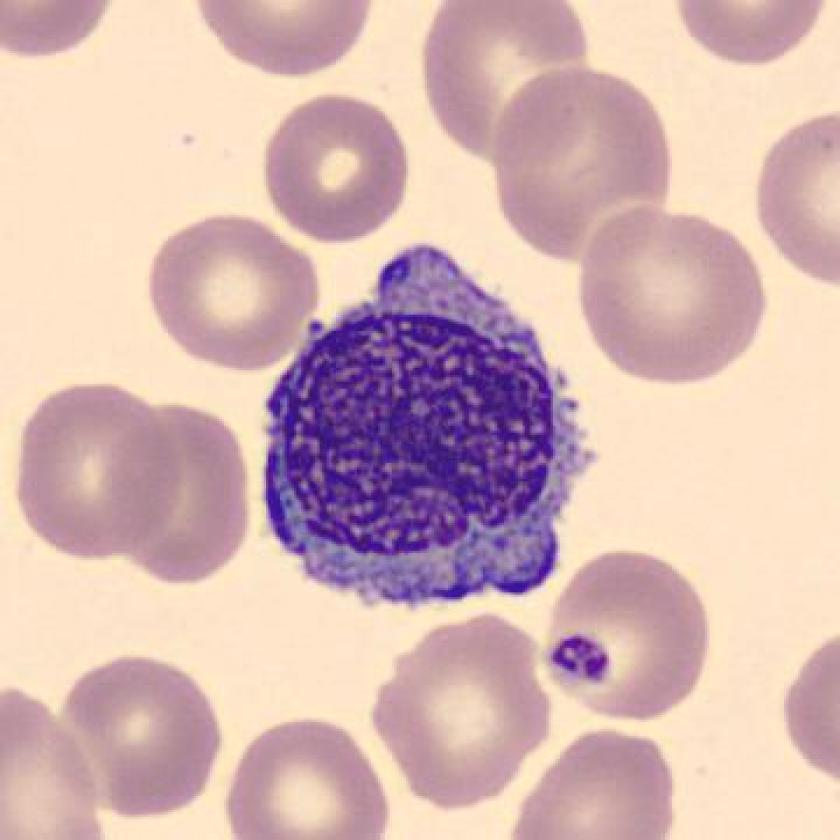monocyte: (246, 228, 608, 630)
